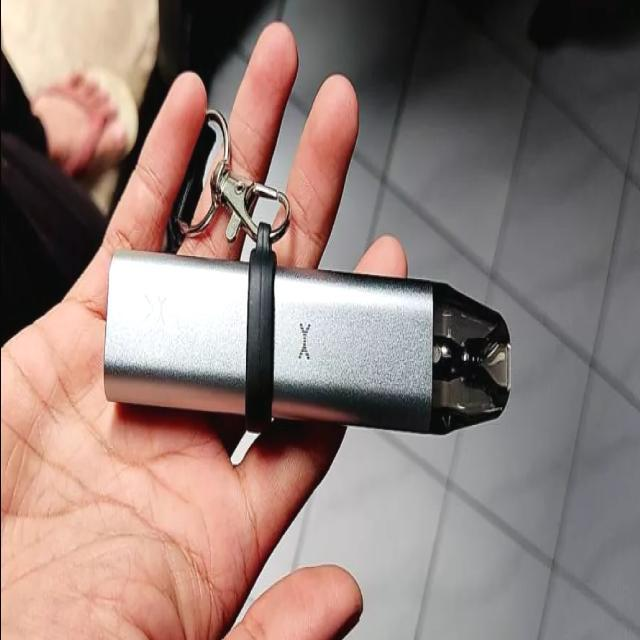Hazard: (106, 250, 516, 439)
